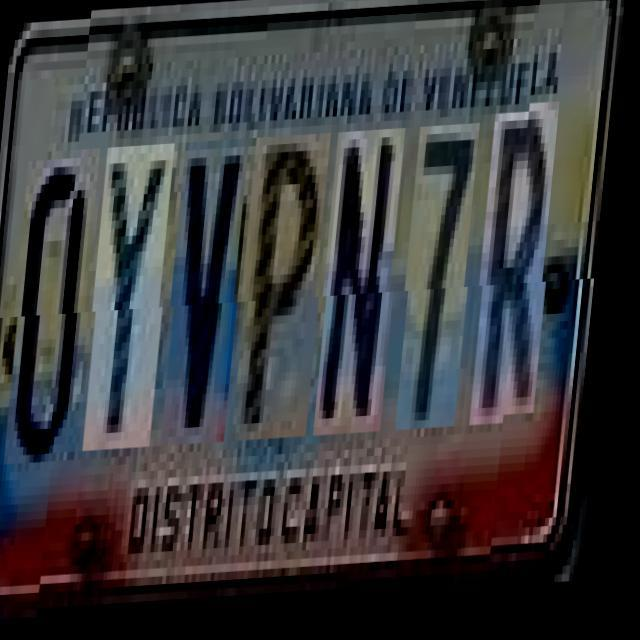0: (13, 150, 106, 456)
7: (404, 130, 486, 436)
N: (322, 134, 412, 440)
P: (240, 138, 338, 444)
R: (478, 118, 566, 432)
V: (170, 142, 256, 448)
Y: (92, 146, 182, 452)
